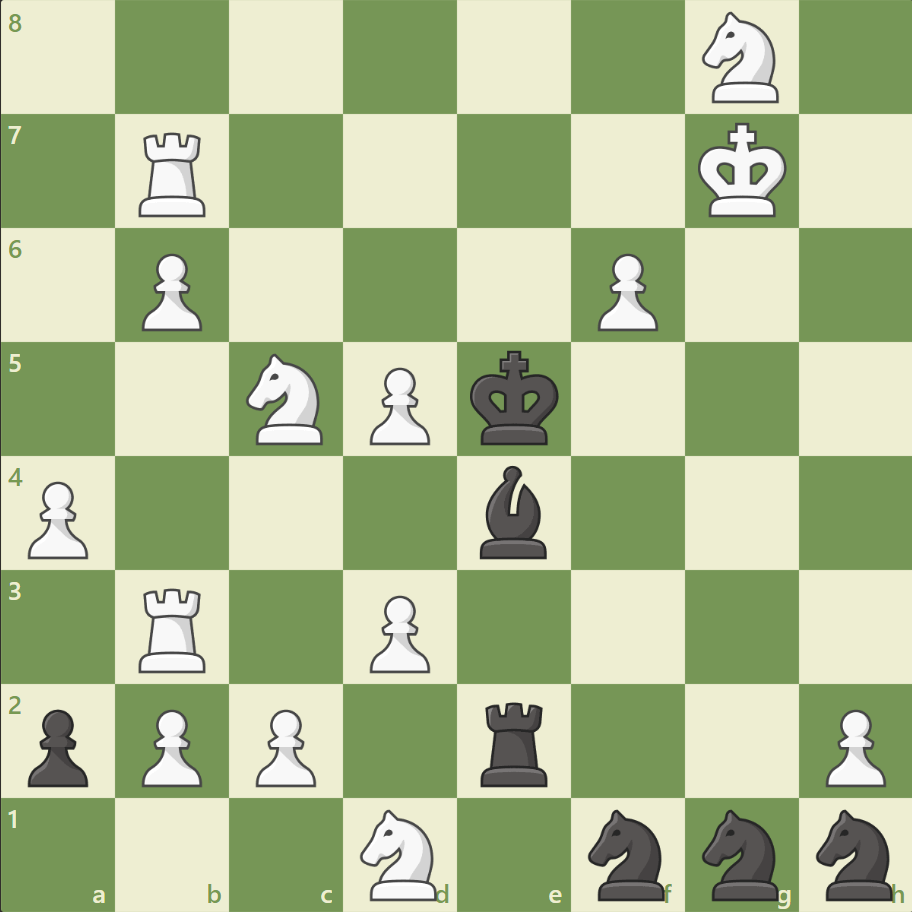K: (692, 117, 792, 225)
N: (351, 802, 449, 904), (692, 7, 789, 110), (238, 348, 335, 450)
P: (133, 246, 208, 337), (20, 473, 95, 564), (133, 700, 208, 791), (247, 700, 322, 791), (588, 246, 662, 337), (361, 359, 435, 450), (361, 586, 435, 677), (815, 700, 889, 791)
R: (133, 125, 215, 222), (133, 579, 215, 676)
b: (471, 460, 555, 563)
k: (465, 344, 565, 452)
n: (579, 802, 676, 904), (692, 802, 789, 904), (806, 802, 903, 904)
p: (20, 700, 95, 791)
r: (473, 693, 556, 790)
